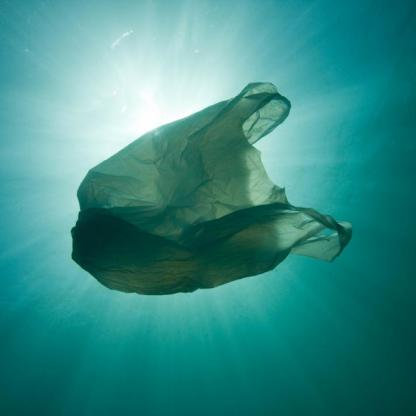plastic-bag: (69, 80, 350, 295)
